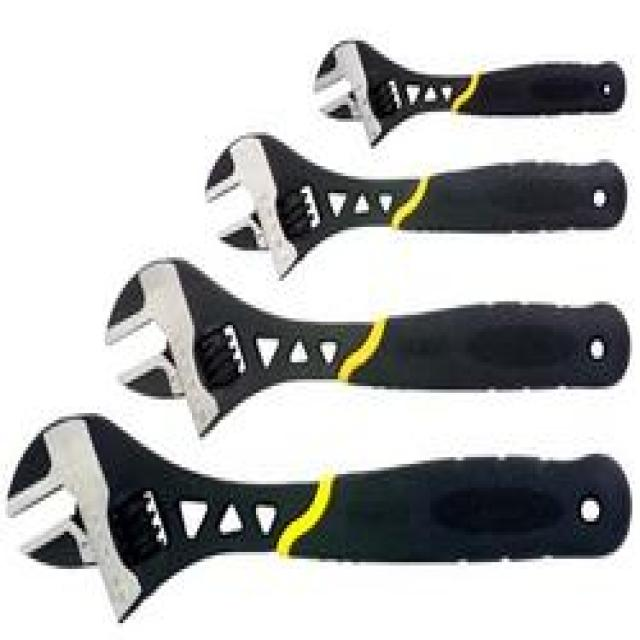wrench: (7, 393, 640, 640), (97, 237, 640, 424), (161, 112, 640, 247), (320, 17, 640, 147)
